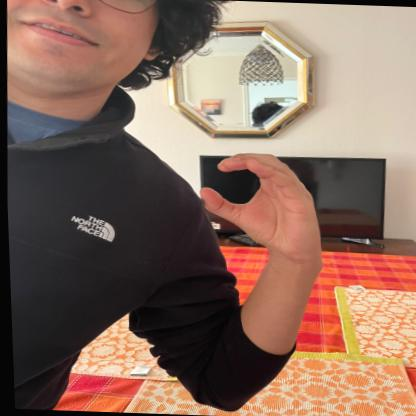C: (189, 138, 328, 262)
